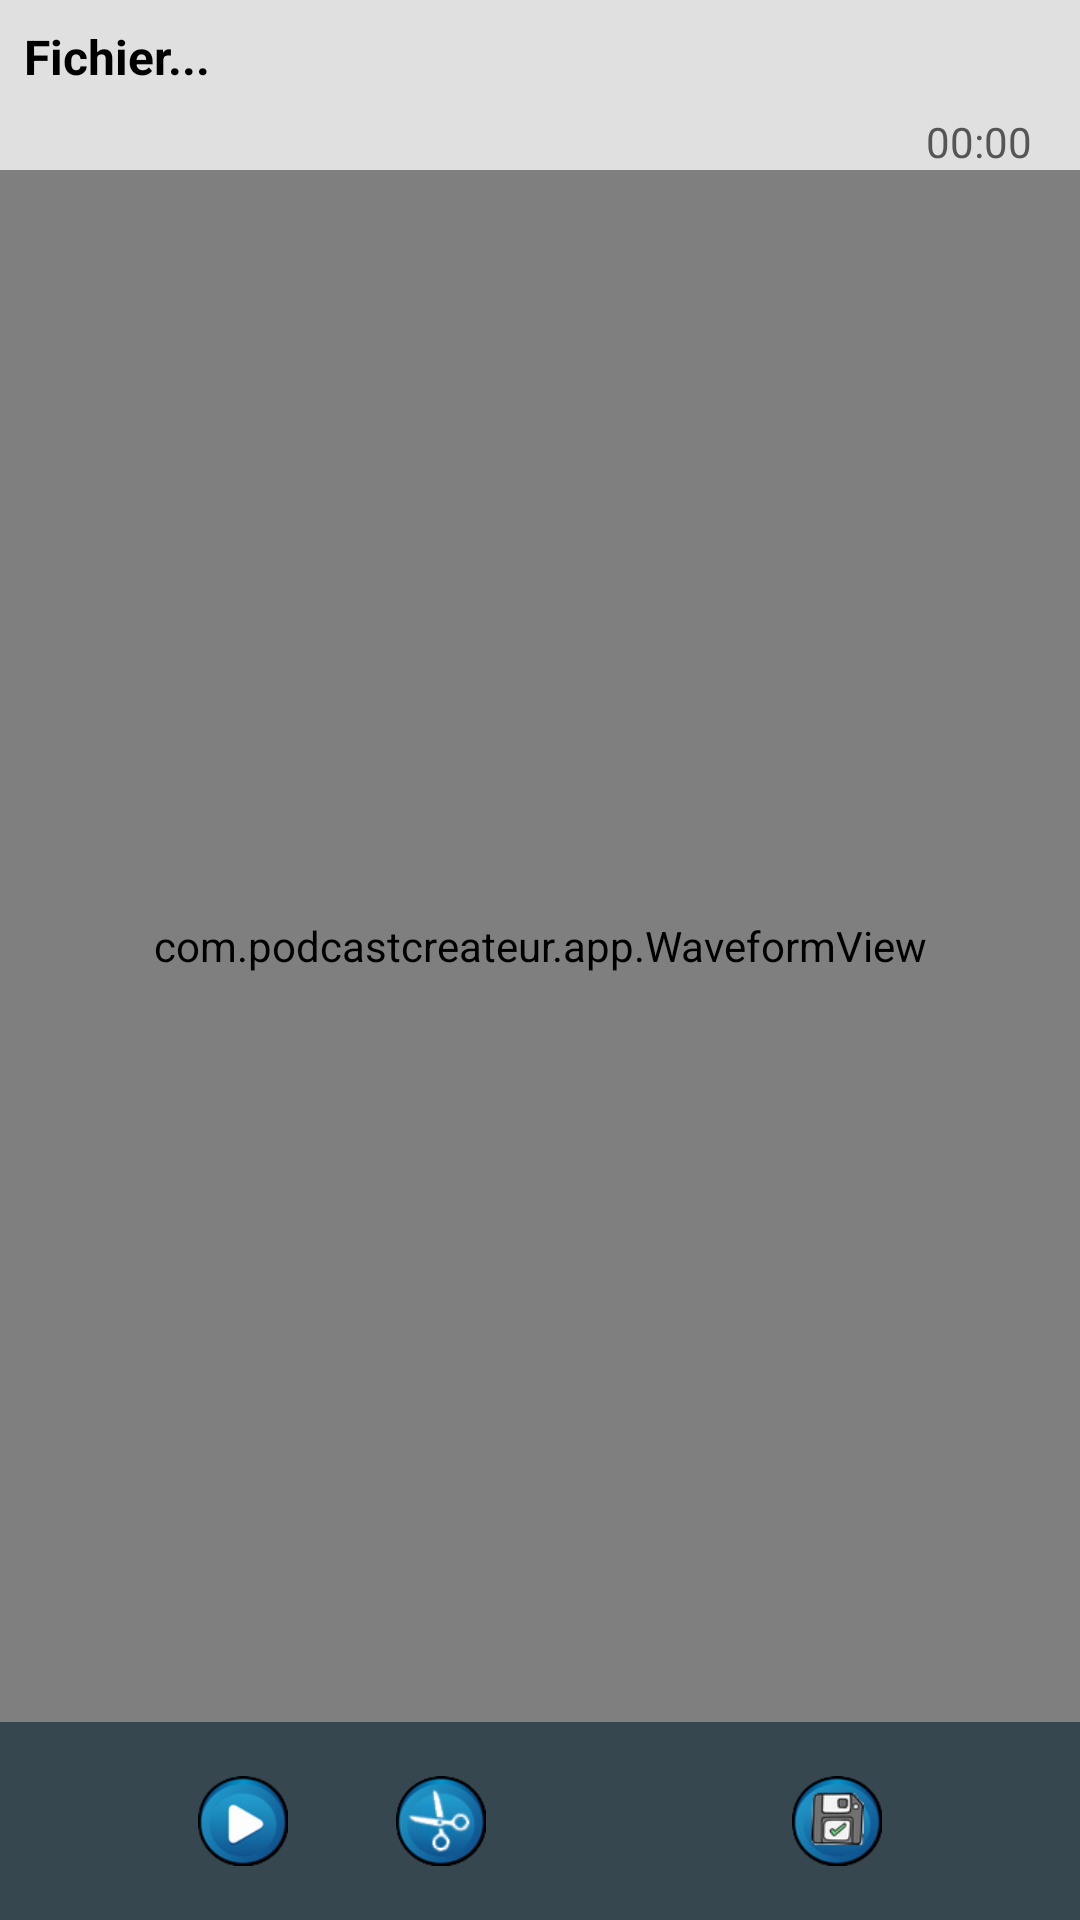

Locate icon controls on the screen. Image size 1080 x 1920, boxes as (x1, y1, x2, y2).
cut: (396, 1776, 486, 1866)
play: (198, 1776, 288, 1866)
save: (792, 1776, 882, 1866)
